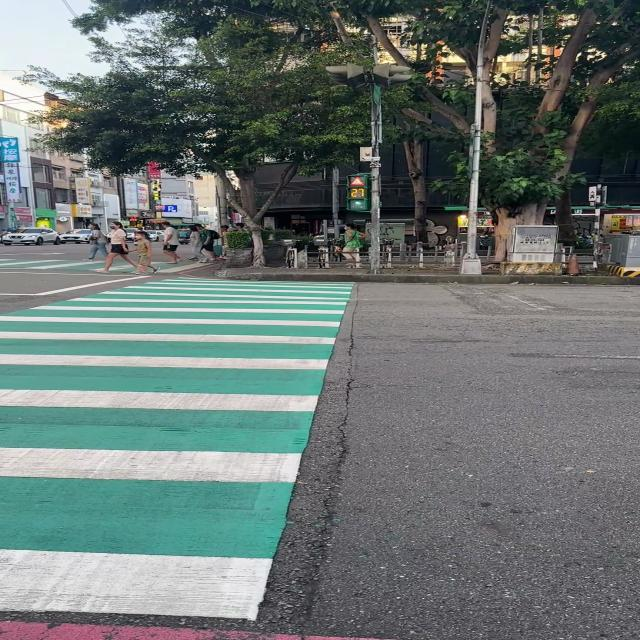car: (0, 228, 62, 245), (59, 229, 93, 244)
crosswalk: (0, 276, 357, 621), (0, 257, 106, 269), (149, 261, 219, 274)
pedestrian: (97, 221, 139, 272), (135, 230, 159, 275), (342, 224, 366, 268), (161, 221, 183, 263), (190, 225, 210, 264), (86, 224, 108, 259), (194, 224, 216, 258)
